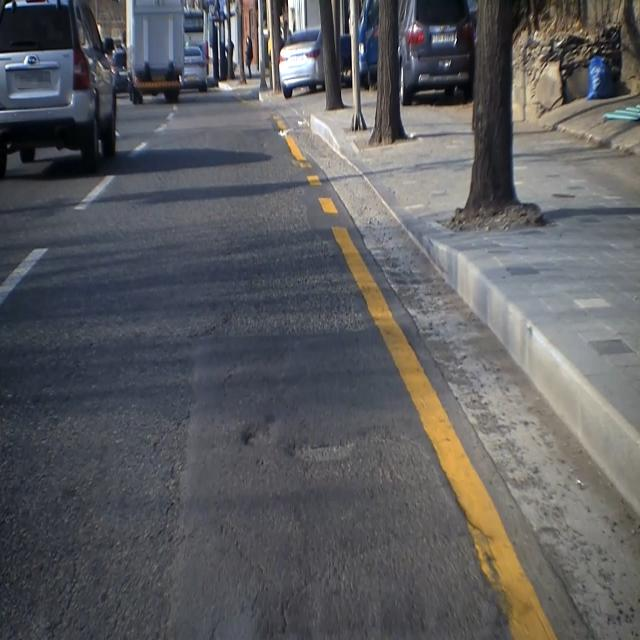Pothole: (240, 410, 359, 471)
